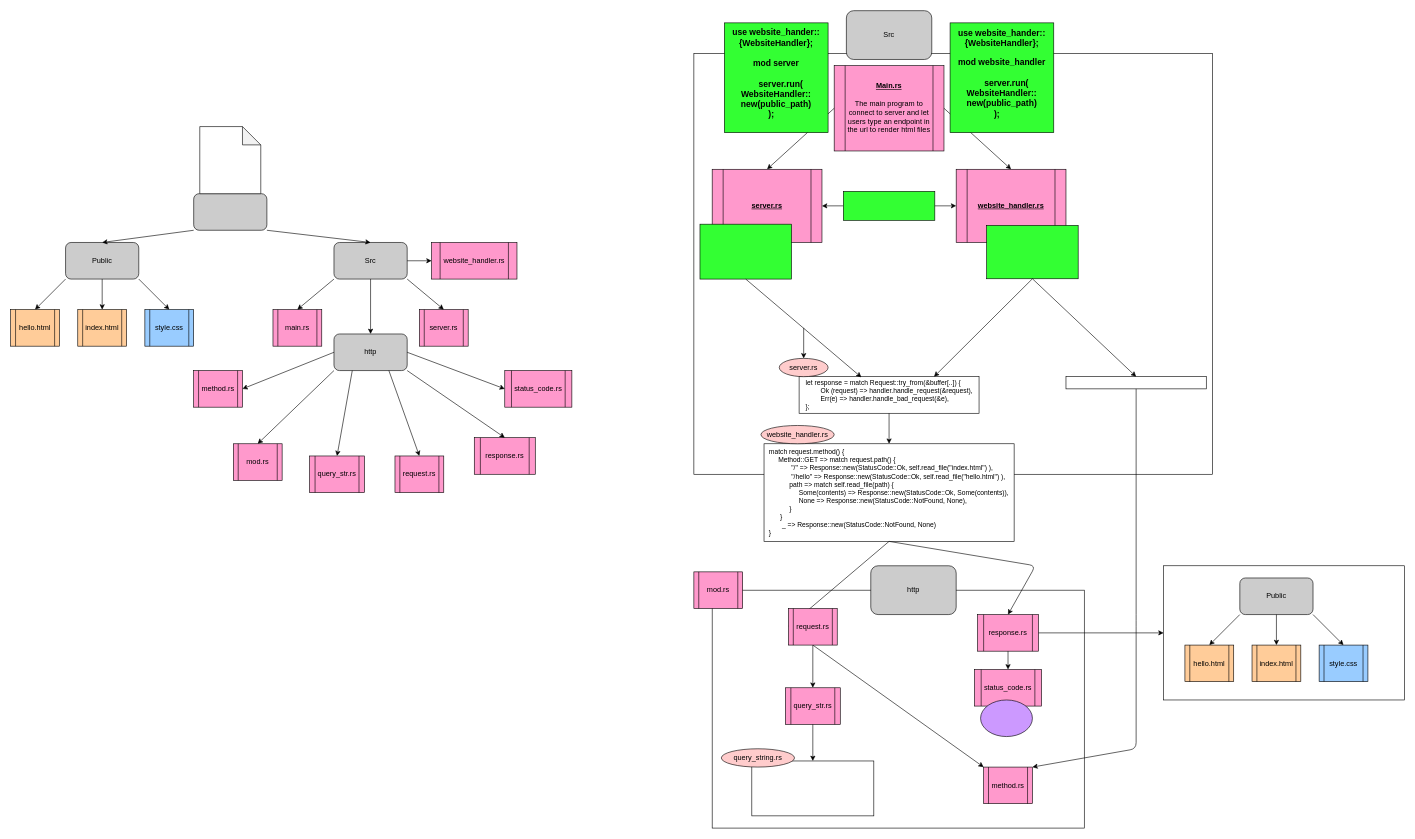
The diagram is 1415 pixels wide and 839 high, and some of its shapes have lost their labels. The shapes that lost their labels are listed below. From the top down, each one's centre as x and y in pixels, then its label:
At (230,160): "Cargo toml No dependencies".
At (230,211): "Server From Scratch".
At (889,205): "use super::server::{Handler};".
At (745,251): "use crate::http::{Request, Response, StatusCode, ParseError};".
At (1032,252): "use crate::http::{Request, Response, StatusCode, Method};".
At (1135,382): "websiteHander is calling GET method enpoint".
At (1006,718): "Status 200 (success) or 400 error".
At (812,788): "Parsing url endpoint a=1&b=2&c&d=&e===&d=7&d=abc".
